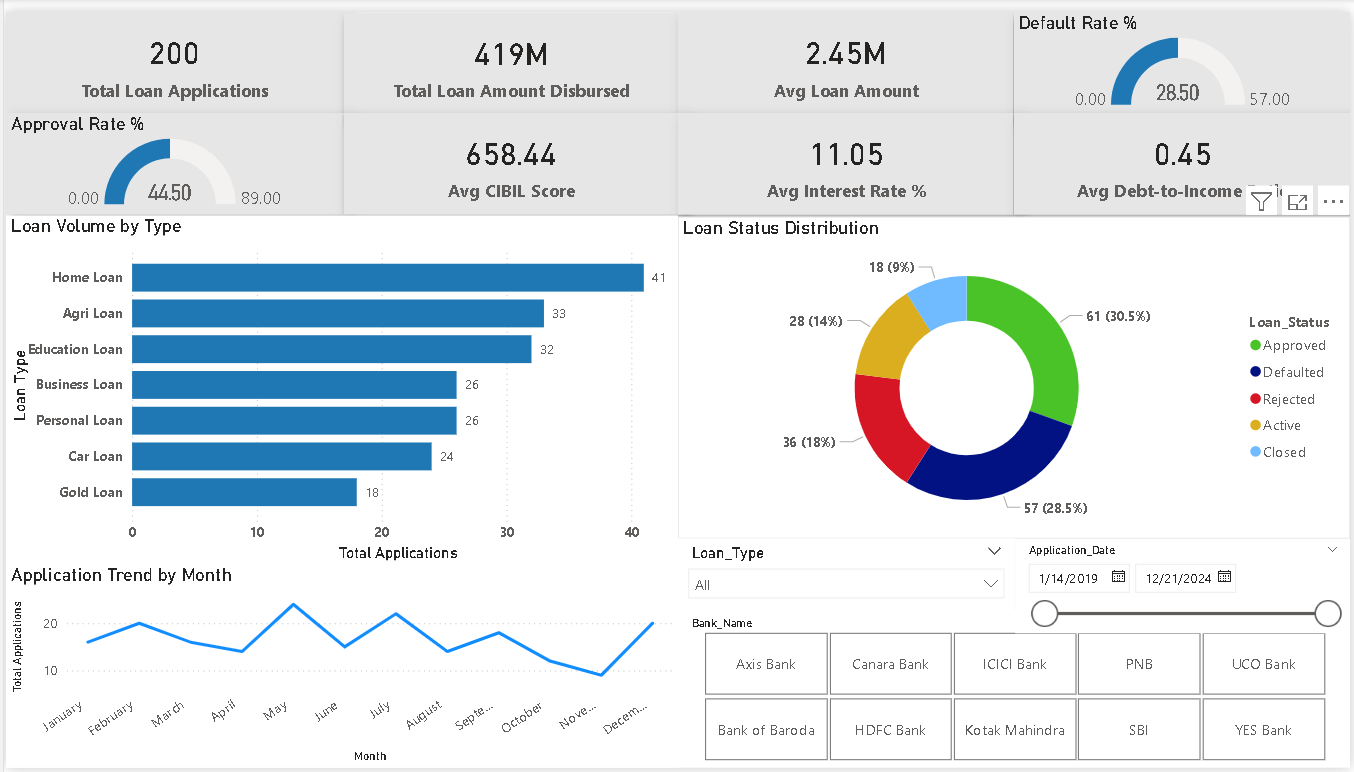

This screenshot's page, from the dashboard's own definition file:
{"tool":"powerbi","page":{"name":"Loan Overview Dashboard","canvas":[1280,720],"ordinal":0},"visuals":[{"type":"card","fields":{"Values":["Banking_Data.Total Applications"]},"box":[0,0,320.7,97.9],"z":0},{"type":"card","fields":{"Values":["Banking_Data.Total Loan Disbursed"]},"box":[320.7,1.3,319.4,96.6],"z":1000},{"type":"card","fields":{"Values":["Avg(Banking_Data.Loan_Amount_INR)"]},"box":[640.1,0,319.4,97.9],"z":2000},{"type":"gauge","fields":{"Y":["Banking_Data.Default Rate %"]},"box":[959.6,0,320.7,97.9],"z":3000},{"type":"gauge","fields":{"Y":["Banking_Data.Approval Rate %"]},"box":[0,96.6,320.7,96.6],"z":4000},{"type":"card","fields":{"Values":["Banking_Data.Avg CIBIL"]},"box":[320.7,96.6,319.4,96.6],"z":5000},{"type":"card","fields":{"Values":["Banking_Data.Avg Interest Rate"]},"box":[640.1,96.6,319.4,96.6],"z":6000},{"type":"card","fields":{"Values":["Avg(Banking_Data.Debt_To_Income_Ratio)"]},"box":[959.6,96.6,320.7,96.6],"z":7000},{"type":"slicer","fields":{"Values":["Banking_Data.Bank_Name"]},"box":[640.1,570.6,640.1,149.4],"z":8000},{"type":"slicer","fields":{"Values":["Banking_Data.Application_Date"]},"box":[960.8,501,319.4,90.2],"z":9000},{"type":"clusteredBarChart","title":"Loan Volume by Type","fields":{"Category":["Banking_Data.Loan_Type"],"Y":["CountNonNull(Banking_Data.Loan_ID)"]},"box":[0,193.2,640.1,333.6],"z":10000},{"type":"donutChart","title":"Loan Status Distribution","fields":{"Category":["Banking_Data.Loan_Status"],"Y":["CountNonNull(Banking_Data.Loan_ID)"]},"box":[640.1,194.5,640.1,306.5],"z":11000},{"type":"lineChart","title":"Application Trend by Month","fields":{"Category":["Banking_Data.Application_Date.Variation.Date Hierarchy.Month"],"Y":["CountNonNull(Banking_Data.Loan_ID)"]},"box":[0,526.8,640.1,193.2],"z":12000},{"type":"slicer","fields":{"Values":["Banking_Data.Loan_Type"]},"box":[640.1,501,320.7,69.6],"z":13000}]}

Visuals, with their boxes in screenshot pixels (x1, y1, x2, y2), scaled from the page's 1280x720 canvas onto the 1354x772 screenshot:
card - Banking_Data.Total Applications: left=0, top=0, right=339, bottom=105
card - Banking_Data.Total Loan Disbursed: left=339, top=1, right=677, bottom=105
card - Avg(Banking_Data.Loan_Amount_INR): left=677, top=0, right=1015, bottom=105
gauge - Banking_Data.Default Rate %: left=1015, top=0, right=1353, bottom=105
gauge - Banking_Data.Approval Rate %: left=0, top=104, right=339, bottom=207
card - Banking_Data.Avg CIBIL: left=339, top=104, right=677, bottom=207
card - Banking_Data.Avg Interest Rate: left=677, top=104, right=1015, bottom=207
card - Avg(Banking_Data.Debt_To_Income_Ratio): left=1015, top=104, right=1353, bottom=207
slicer - Banking_Data.Bank_Name: left=677, top=612, right=1353, bottom=771
slicer - Banking_Data.Application_Date: left=1016, top=537, right=1353, bottom=634
"Loan Volume by Type" clusteredBarChart: left=0, top=207, right=677, bottom=565
"Loan Status Distribution" donutChart: left=677, top=209, right=1353, bottom=537
"Application Trend by Month" lineChart: left=0, top=565, right=677, bottom=771
slicer - Banking_Data.Loan_Type: left=677, top=537, right=1016, bottom=612
